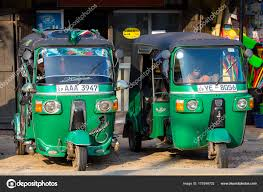tuk tuk: (123, 32, 253, 168), (11, 27, 118, 172)
